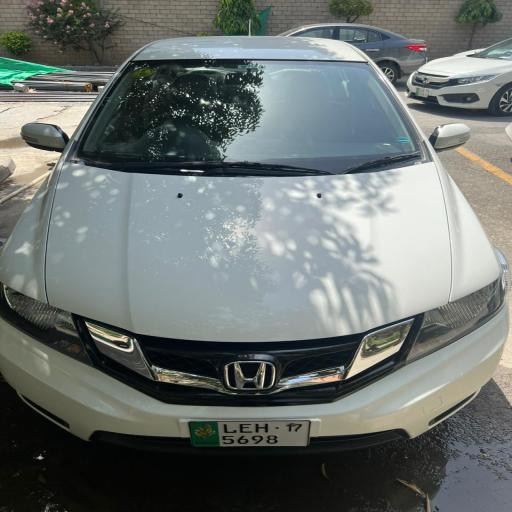number_plate: (190, 422, 309, 446)
